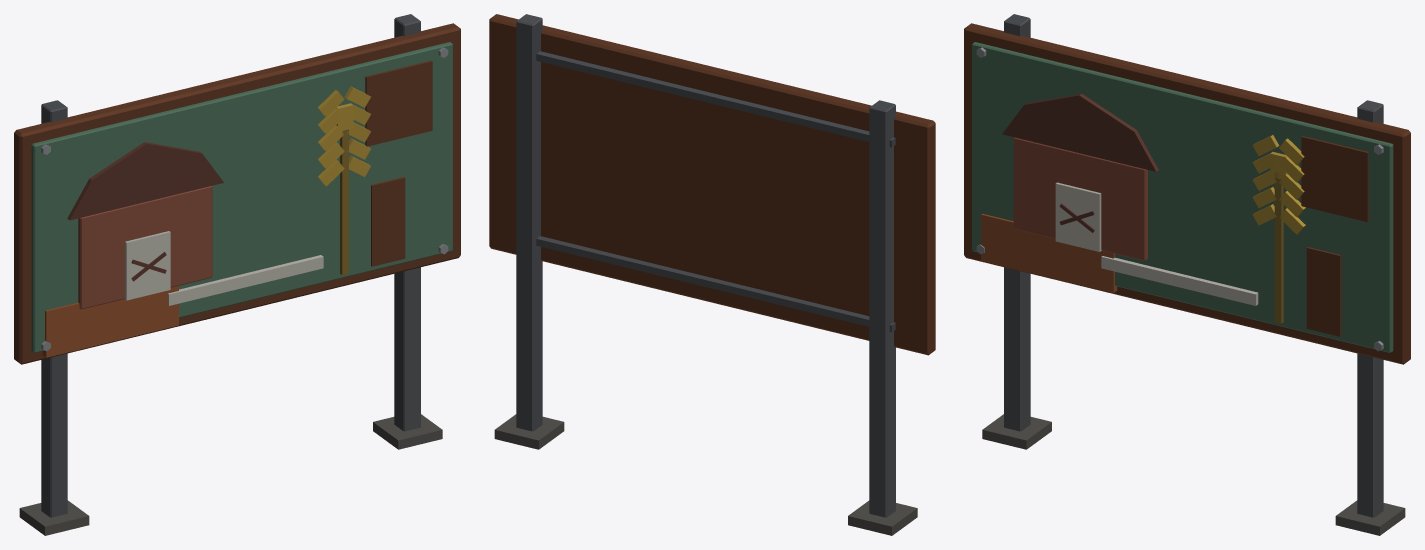
File: lmk_sign_farm.fbx
The picture shows the model from 3 angles, left to right: view 1: azimuth 30°, elevation 25°; view 2: azimuth 150°, elevation 25°; view 3: azimuth 330°, elevation 25°; orthographic projection.
Parts seen in each view (by area): view 1: lmk_sign_farm; view 2: lmk_sign_farm; view 3: lmk_sign_farm.
Part boxes in pixels (left/top/right/bottom): lmk_sign_farm: left=14, top=14, right=460, bottom=535; lmk_sign_farm: left=489, top=14, right=935, bottom=535; lmk_sign_farm: left=964, top=14, right=1410, bottom=535.
Bounding box in the file's own units: 4 × 3.6 × 0.4775.
